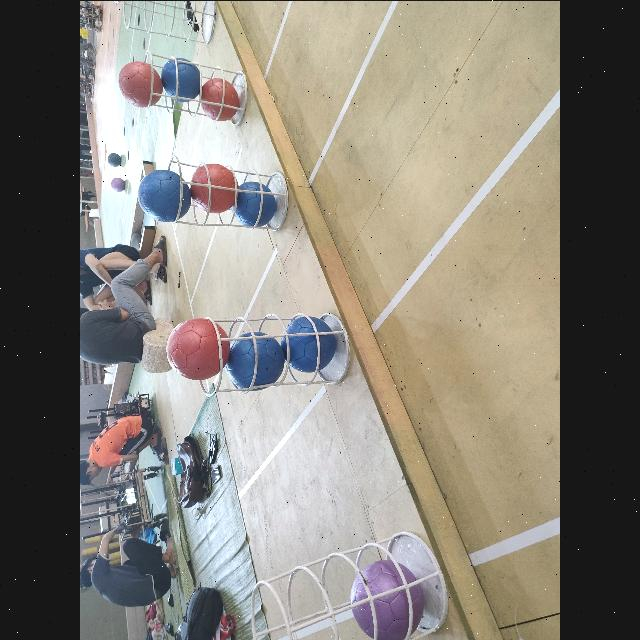B: (223, 330, 285, 390), (280, 317, 336, 373), (137, 168, 190, 218), (232, 181, 276, 225), (162, 58, 200, 100)
R: (167, 315, 229, 379), (190, 162, 237, 212), (117, 62, 161, 106), (200, 76, 240, 122)
